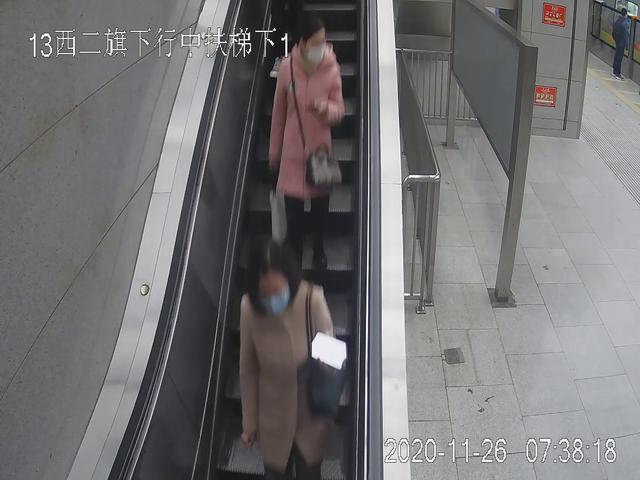person: (241, 242, 340, 480), (265, 22, 344, 282), (609, 8, 631, 79)
